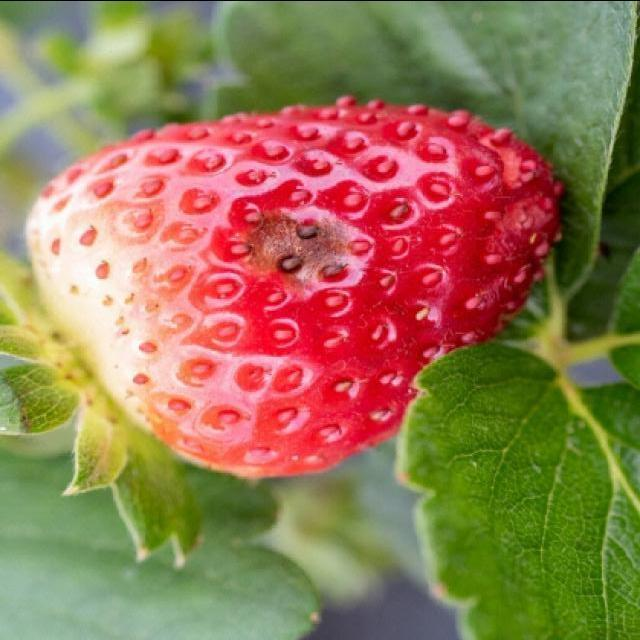Anthracnose Fruit Rot: (25, 93, 568, 505)
